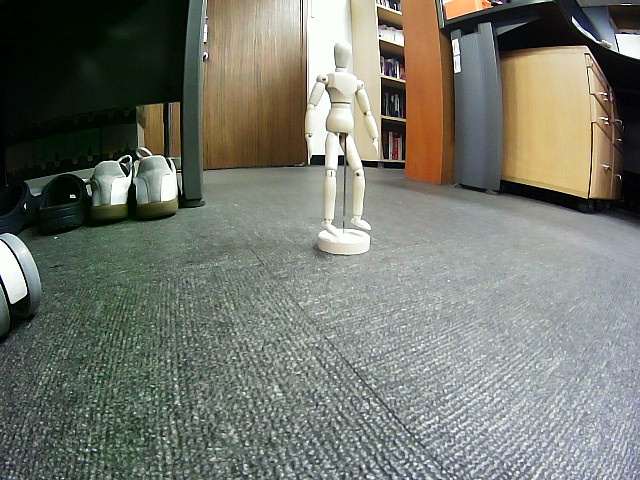person: (304, 40, 379, 236)
